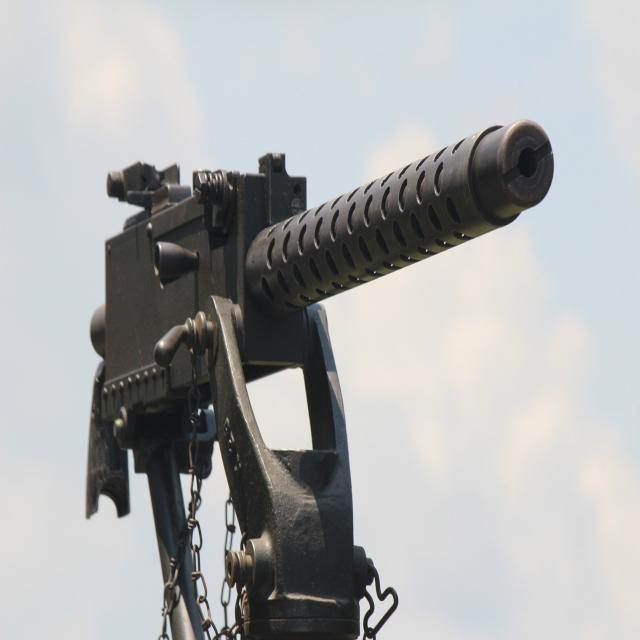Gun: (86, 121, 554, 640)
